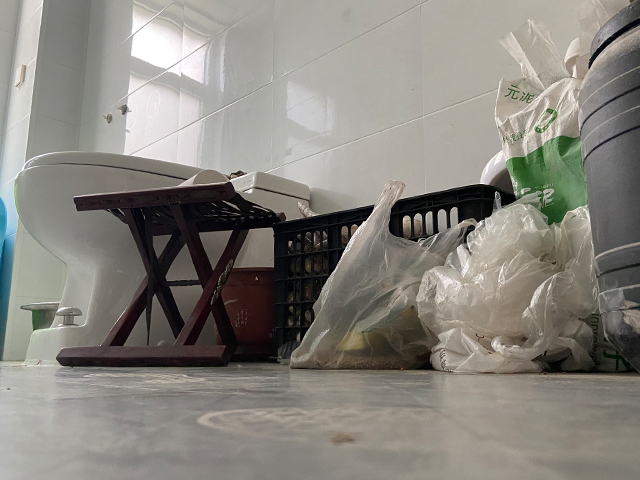closestool: (12, 150, 312, 367)
stool: (54, 180, 286, 369)
